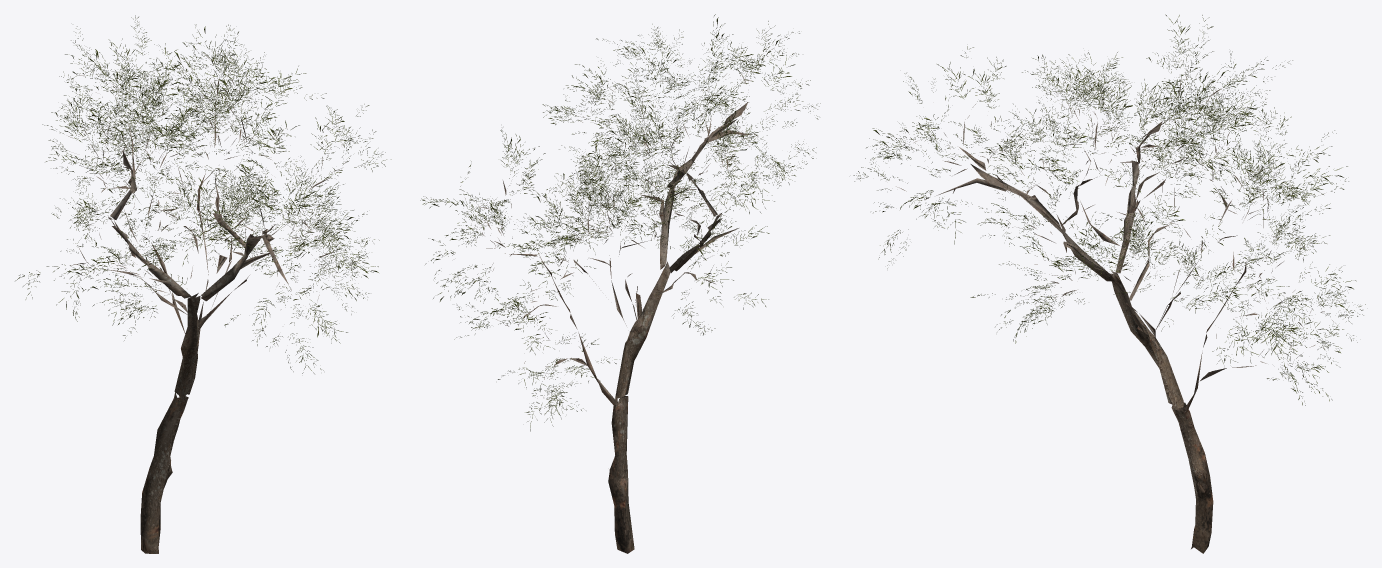
The model's file is tree_small_02_lod0.gltf.
3 renders of one model, left to right at view 1: azimuth 30°, elevation 25°; view 2: azimuth 150°, elevation 25°; view 3: azimuth 270°, elevation 25°, orthographic. The views are drawn at different scales.
Visible parts, largest first — view 1: tree_small_02_lod0; view 2: tree_small_02_lod0; view 3: tree_small_02_lod0.
Boxes of the visible parts, bbox=[...] form: tree_small_02_lod0: bbox=[15, 15, 391, 553]; tree_small_02_lod0: bbox=[420, 14, 820, 553]; tree_small_02_lod0: bbox=[853, 14, 1365, 553].
Size of the model in its own units: 2.87 by 4.54 by 4.27.
Materials: 3 (3 with a texture image).
